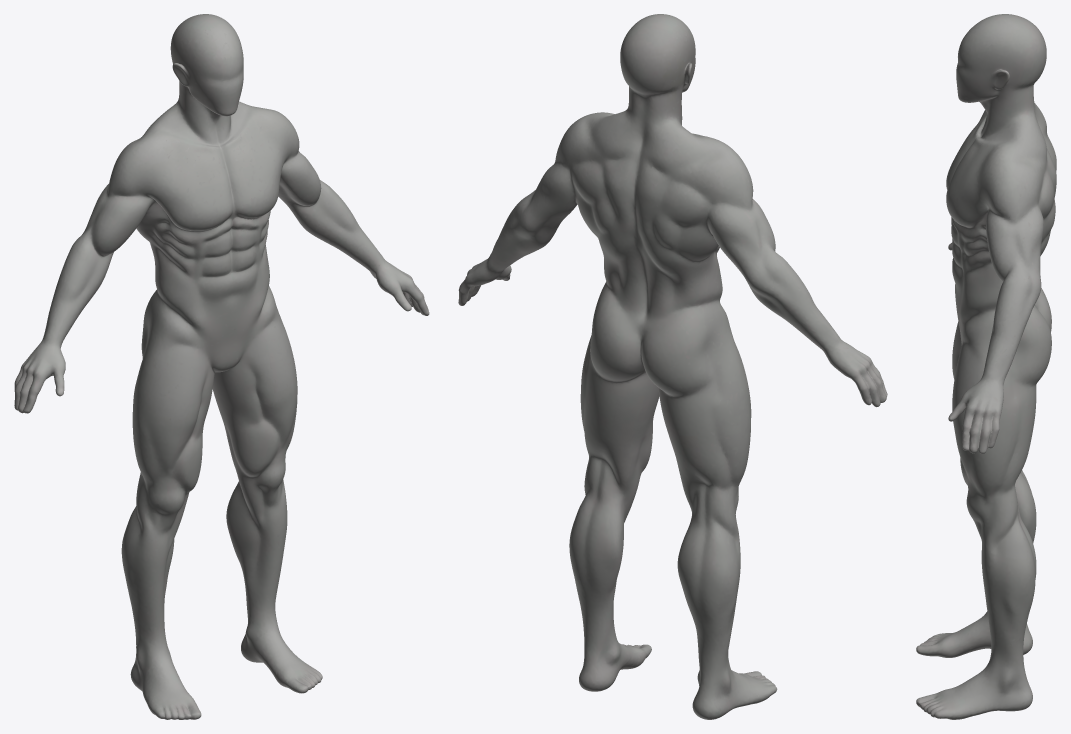
The model's file is sample_2026-11-19T200316.122.glb.
3 views of the same model, side by side, from view 1: azimuth 30°, elevation 25°; view 2: azimuth 150°, elevation 25°; view 3: azimuth 270°, elevation 25° (orthographic). The views are drawn at different scales.
Visible parts, largest first — view 1: world; view 2: world; view 3: world.
Boxes of the visible parts, box(x1,y1,x2,y2) form: world: box(14, 14, 429, 719); world: box(458, 14, 887, 719); world: box(916, 14, 1056, 719).
Bounding box in the file's own units: 0.6494 × 1 × 0.1916.
1 material, 1 textured.
